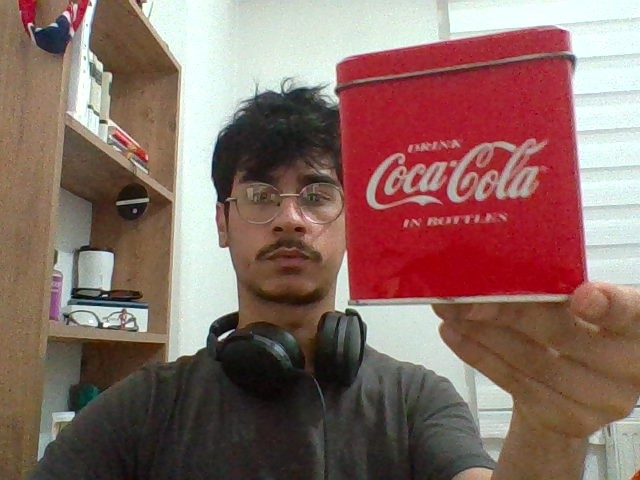CocaColaBox: (333, 55, 583, 305)
